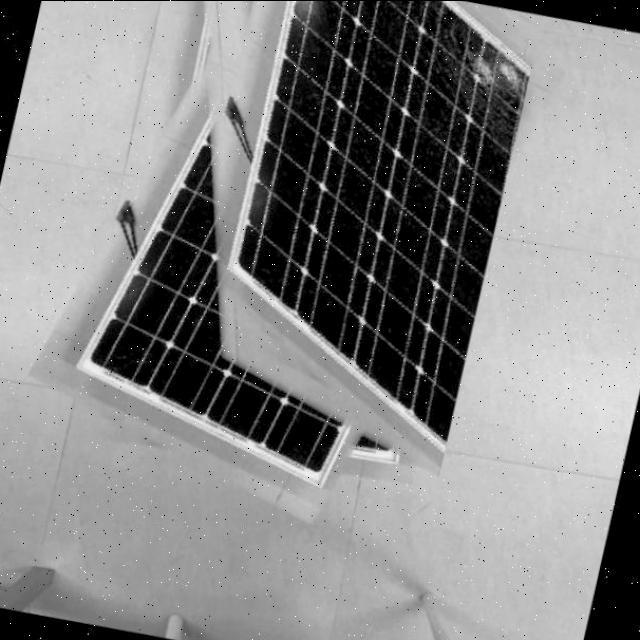Normal Solar Panel: (76, 125, 351, 487)
Structural Damage: (441, 46, 535, 134)
